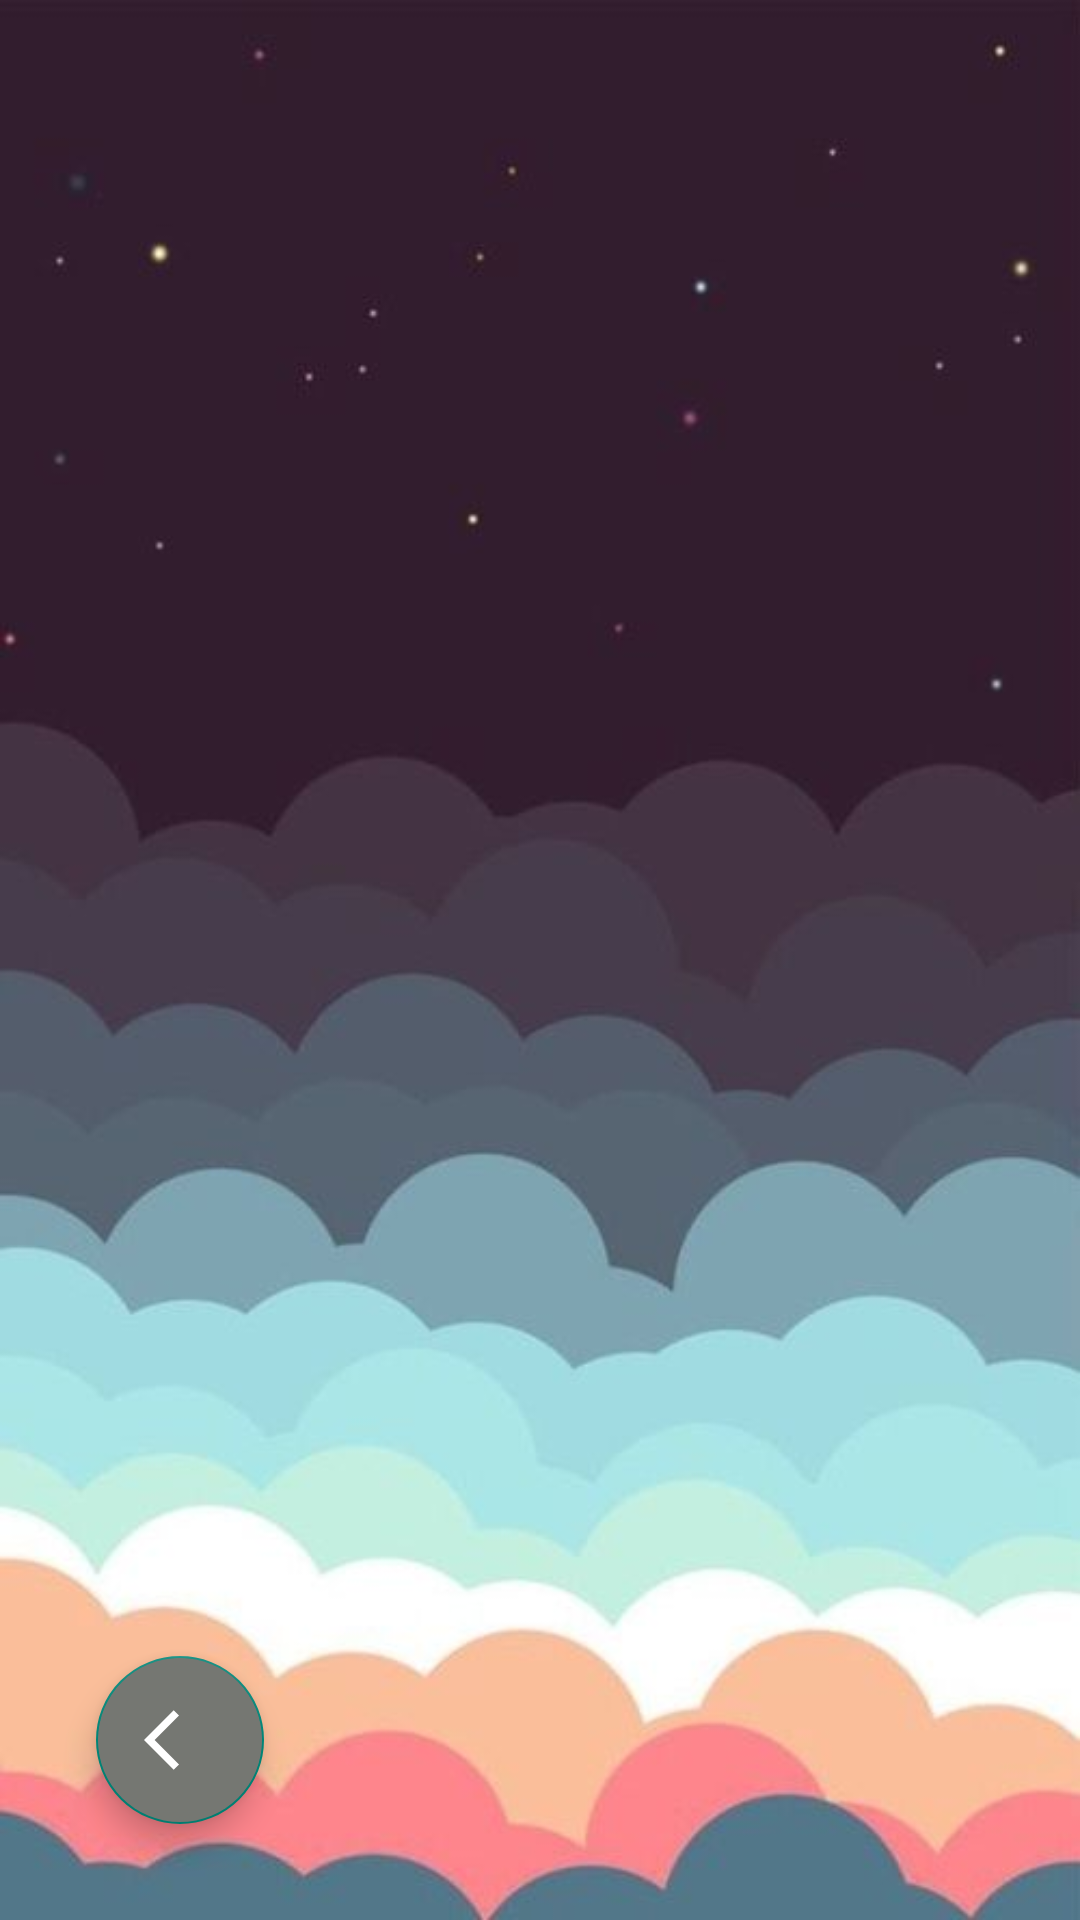

Where to tap for icons on this 1080px×1920px app screen, as [x,y]:
arrow back: [180,1740]
